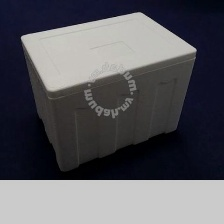foam_box: (17, 8, 202, 174)
